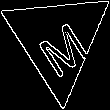M_NW: (27, 6, 88, 74)
